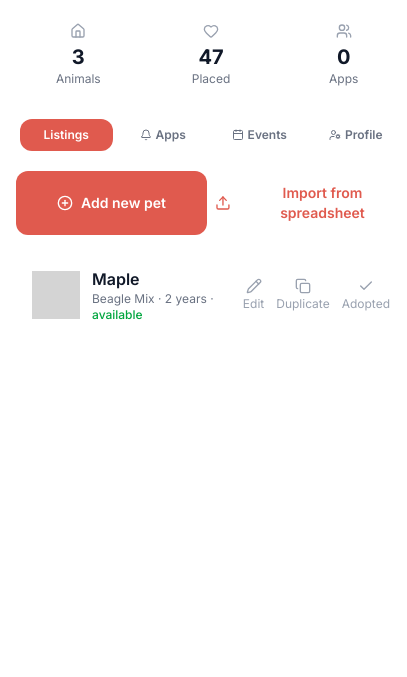
rescue dashboard — edit pet › opens the form prefilled with the listing, including its existing photos
The width and height of the screenshot is (407, 677).
Click the button titled "Edit this listing".
click(254, 295)  # box [243,278,264,312]
(page scrolled)
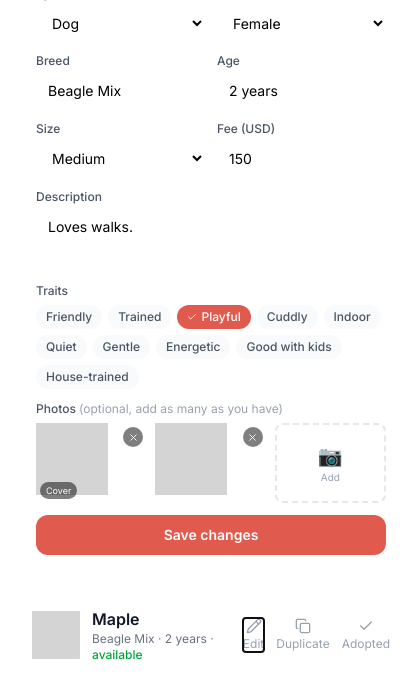
Result: the field with placeholder "Golden Retriever" below "Breed" holds "Beagle Mix" at [36,73,205,109]
Result: the number of buttons named "Remove photo" is 2 at [123,427,143,447]; [243,427,263,447]
Result: the button "Save changes" is shown at [36,515,386,555]
